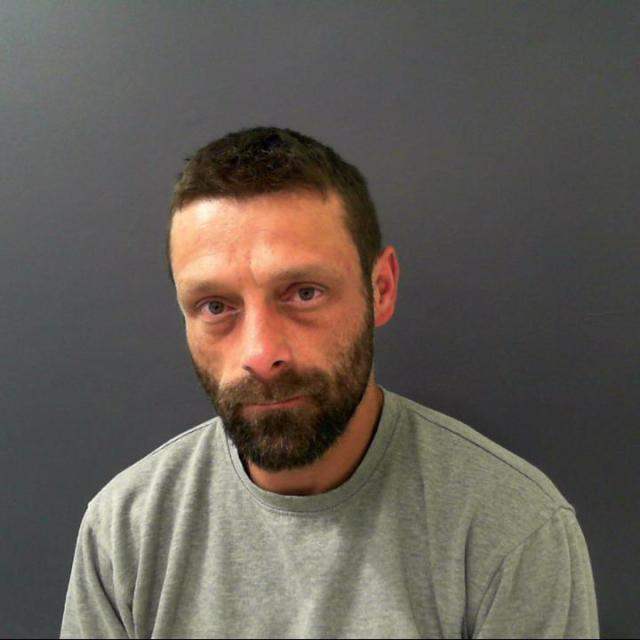human: (51, 113, 606, 640)
